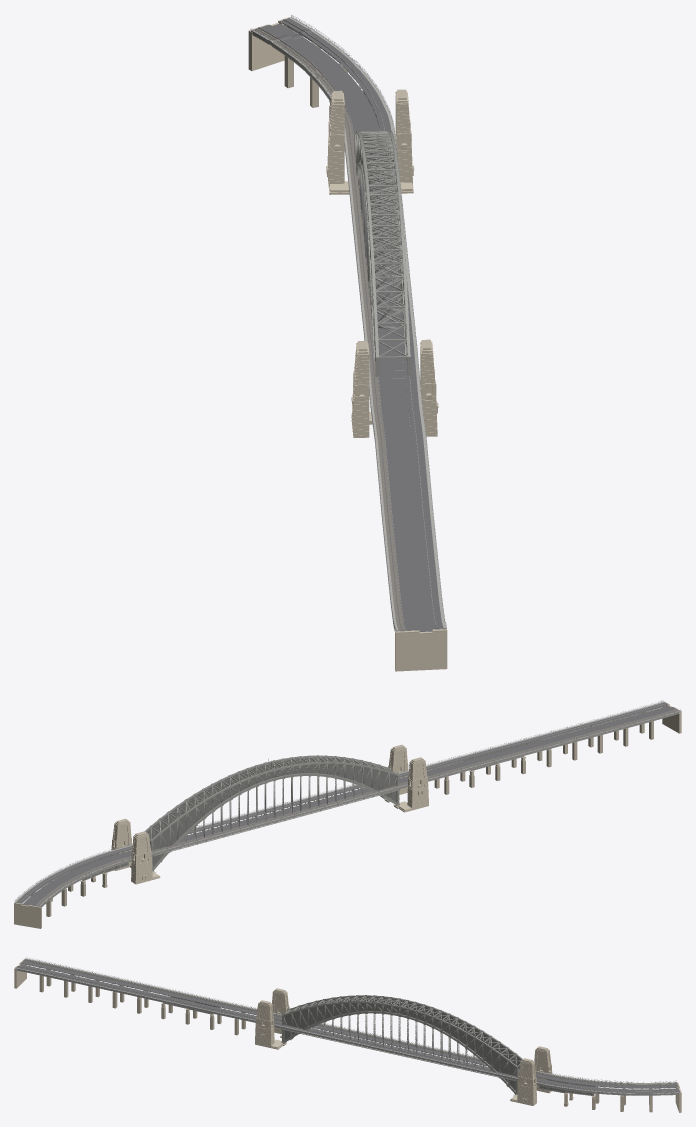
File: harbour-bridge.glb
3 renders of one model, top to bottom at view 1: azimuth 30°, elevation 25°; view 2: azimuth 150°, elevation 25°; view 3: azimuth 270°, elevation 25°, orthographic. The views are drawn at different scales.
Visible parts, largest first — view 1: harbour-bridge; view 2: harbour-bridge; view 3: harbour-bridge.
Part boxes in pixels (x1,y1,x2,y2): harbour-bridge: [248, 15, 447, 671]; harbour-bridge: [14, 700, 681, 928]; harbour-bridge: [14, 958, 681, 1112].
Bounding box in the file's own units: 613 × 148 × 1274.
